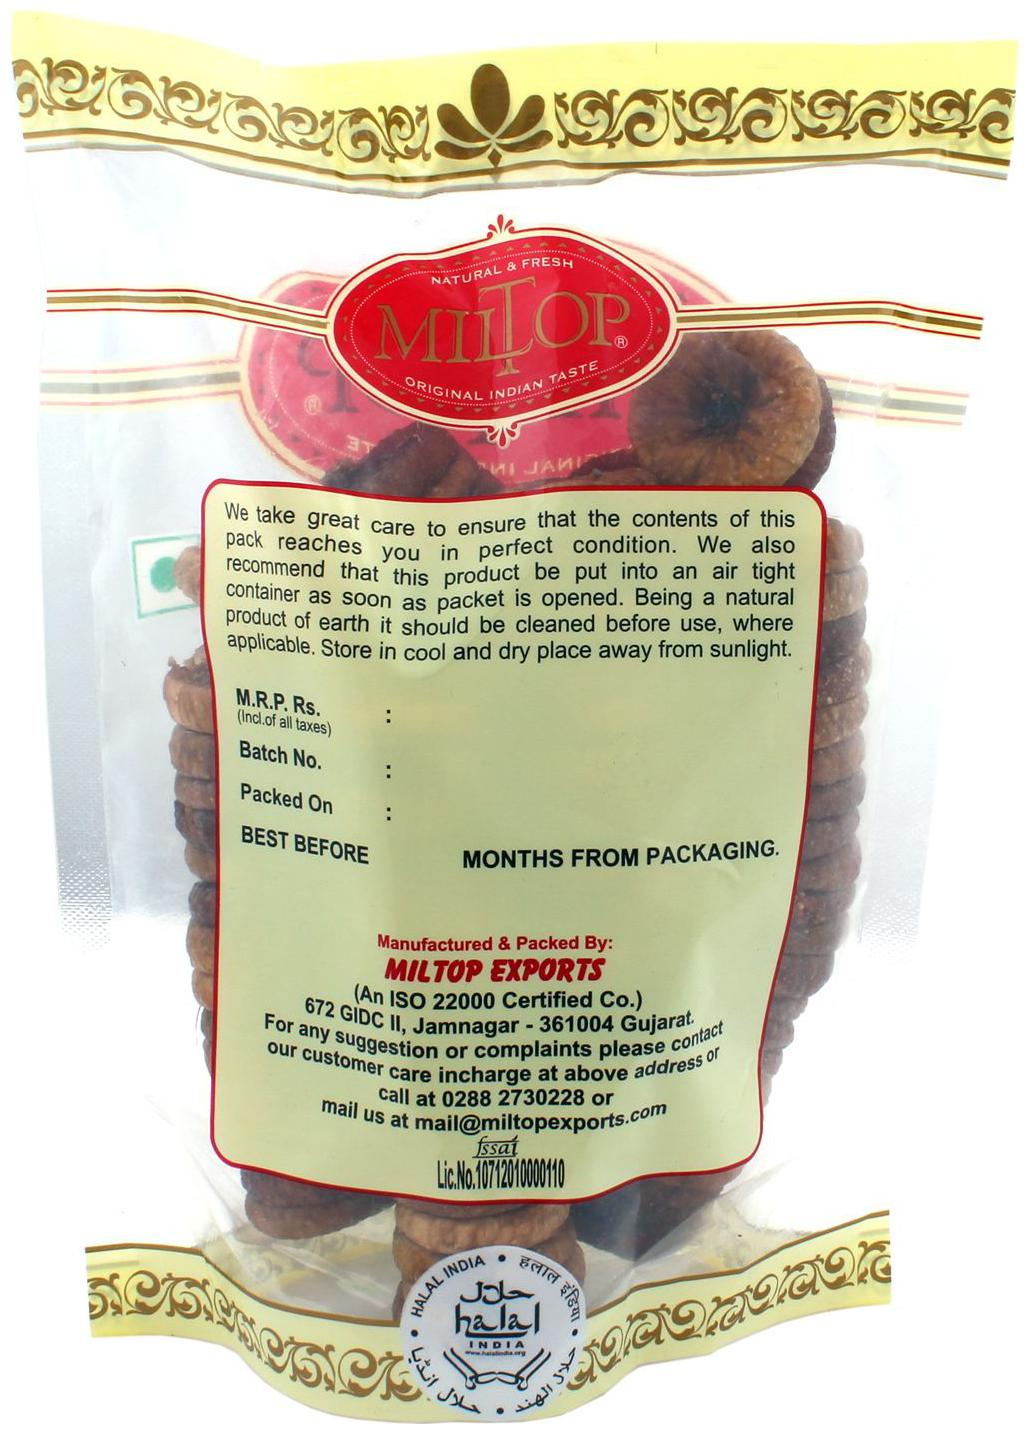fssai: (472, 1135, 522, 1157)
